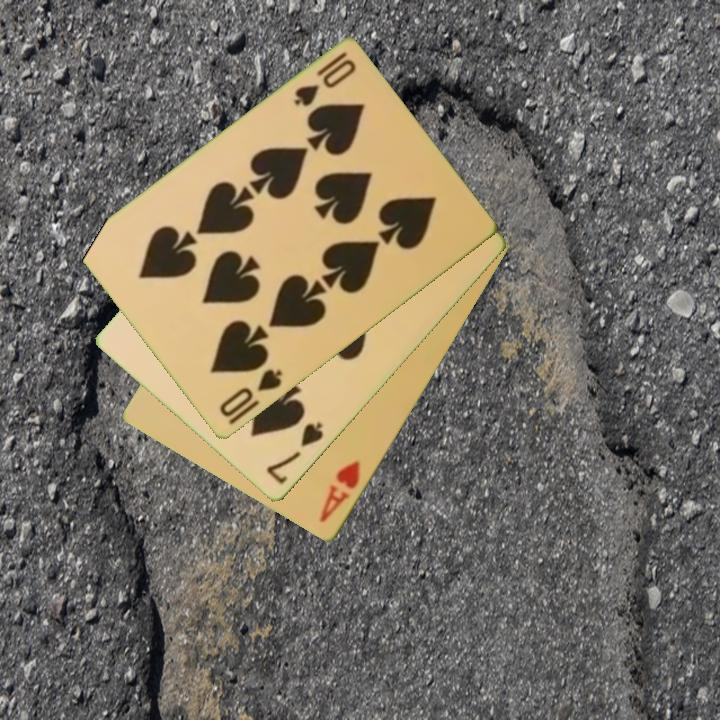10s: (290, 49, 359, 111), (215, 365, 286, 421)
7s: (263, 419, 327, 488)
Ah: (316, 457, 364, 526)
